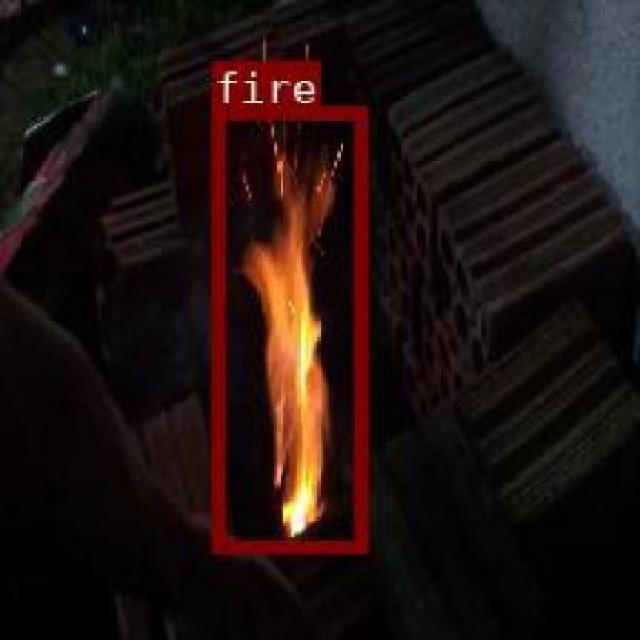fire: (210, 103, 366, 551)
